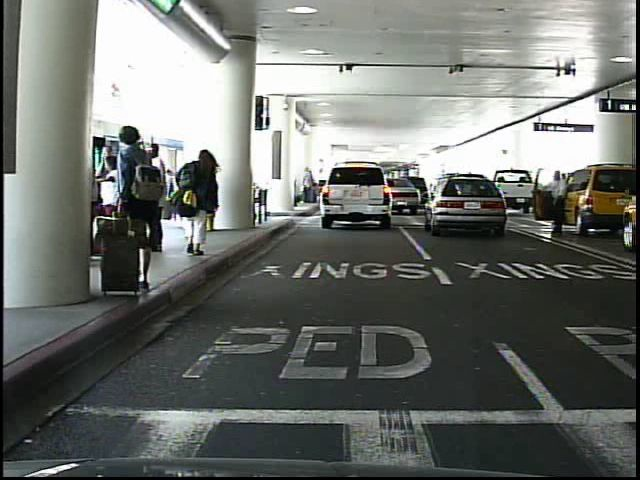person: (103, 119, 156, 293), (182, 146, 223, 263), (141, 143, 174, 260), (171, 158, 199, 233), (545, 174, 568, 236)
